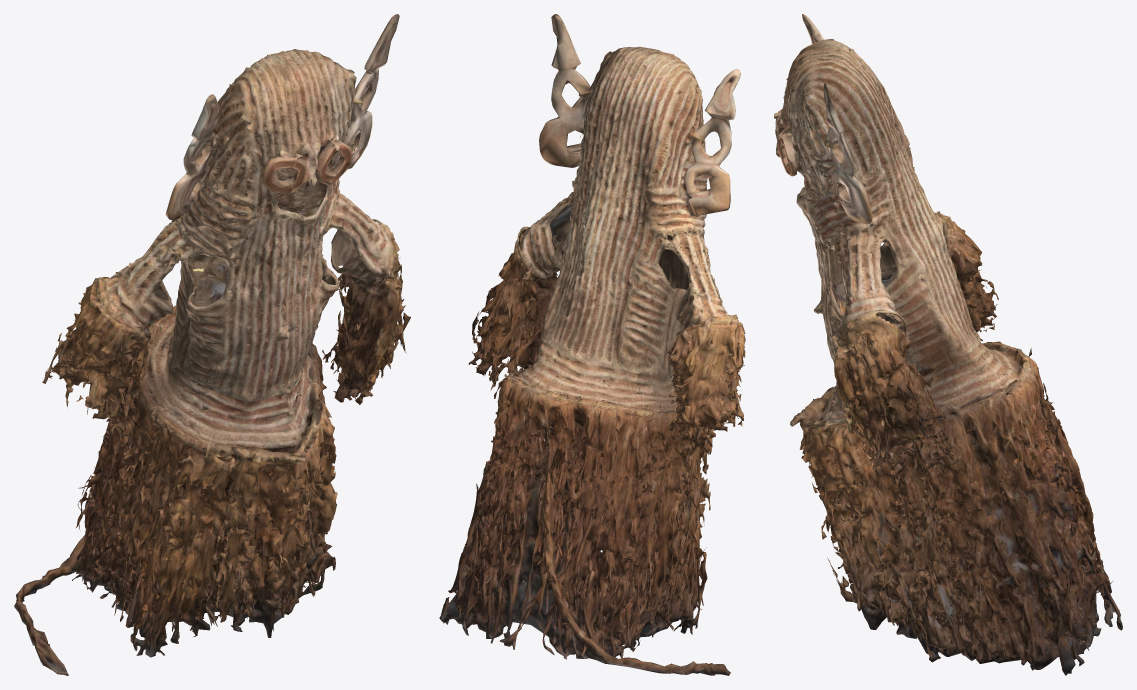
File: preview.glb
3 views of the same model, side by side, from view 1: azimuth 30°, elevation 25°; view 2: azimuth 150°, elevation 25°; view 3: azimuth 270°, elevation 25° (orthographic). The views are drawn at different scales.
Parts seen in each view (by area): view 1: ADVIMG_1978_412_1282a_BodyMask_n3d; view 2: ADVIMG_1978_412_1282a_BodyMask_n3d; view 3: ADVIMG_1978_412_1282a_BodyMask_n3d.
Part boxes in pixels (bbox=[...]): ADVIMG_1978_412_1282a_BodyMask_n3d: bbox=[14, 14, 410, 675]; ADVIMG_1978_412_1282a_BodyMask_n3d: bbox=[439, 14, 745, 675]; ADVIMG_1978_412_1282a_BodyMask_n3d: bbox=[774, 14, 1122, 675].
Bounding box in the file's own units: 0.9066 × 1.67 × 0.8512.
Materials: 1 (1 with a texture image).
